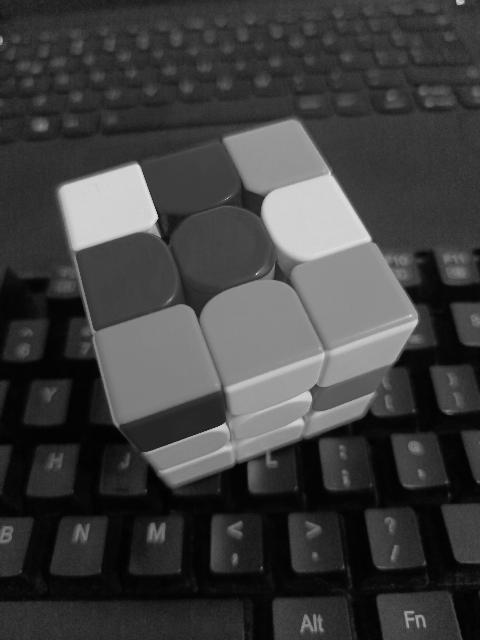rubik: (55, 116, 420, 488)
